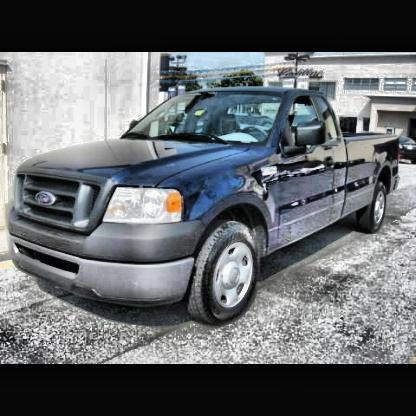Ford F-150 Regular Cab 2007: (6, 89, 401, 329)
